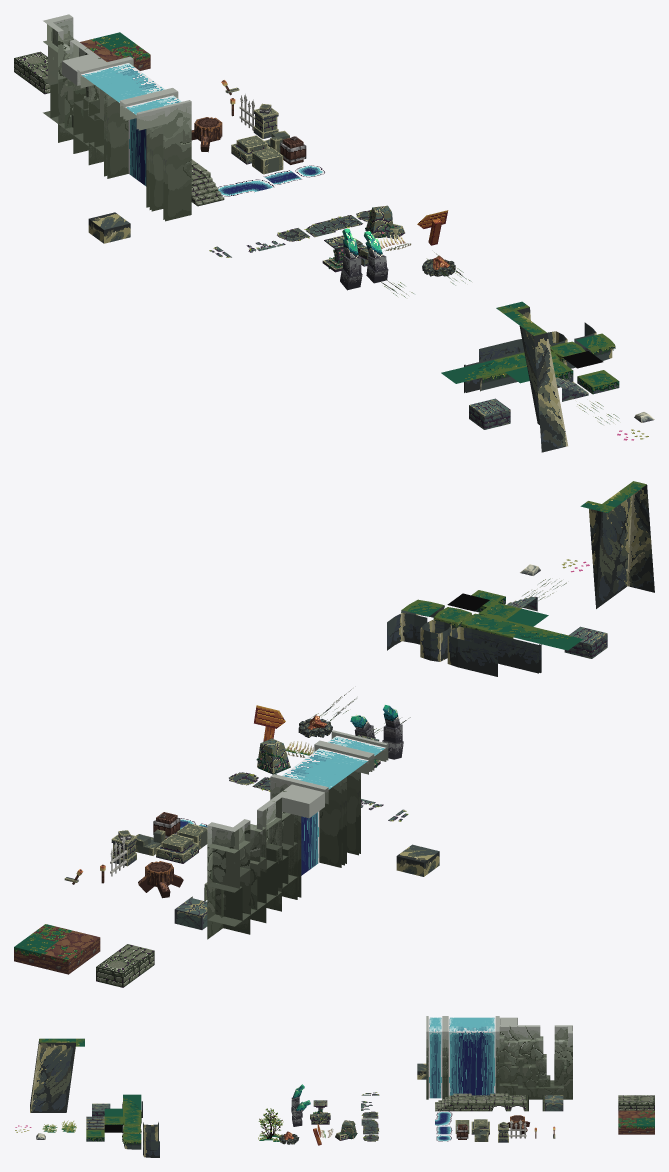
File: LIB_GridMapMeshLibrary.gltf
The picture shows the model from 3 angles, top to bottom: view 1: azimuth 30°, elevation 25°; view 2: azimuth 150°, elevation 25°; view 3: azimuth 270°, elevation 25°; orthographic projection. The views are drawn at different scales.
Visible parts, largest first — view 1: cube (×8), HillCorner, 1.2_Rock new plzdontoveride, 1.0_StonePath, 1.6.1_Crystal_FingerHigh, 1.6.1_Crystal_FingerLow, Edge, 1.0_HillEdge, Upwards Ascending Stair, 1.0_UpwardsPath, 1.0_HillWall, Rock 3 (+1 smaller); view 2: cube (×11), HillCorner, 1.0_HillWall, SideEdge_Extension, 1.0_HillEdge, End_Extension, Single_Extension, 1.2_Rock new plzdontoveride, Corner_Extension, 1.0_StonePath, 1.6.1_Crystal_FingerHigh, Edge_Extension (+1 smaller); view 3: cube (×25), 1.0_HillWall, HillCorner, 1.0_HillEdge, Upwards Ascending Stair (×2), Corner, Corner_Extension, 1.6.1_Crystal_FingerLow, 1.0_UpwardsPath, Single_Extension, 1.5.3_Stone_Brick_Wall.
Part boxes in pixels (left/top/right/bottom): cube (×8): left=62, top=54, right=283, bottom=221; HillCorner: left=527, top=327, right=567, bottom=452; 1.2_Rock new plzdontoveride: left=88, top=212, right=130, bottom=243; 1.0_StonePath: left=469, top=398, right=510, bottom=429; 1.6.1_Crystal_FingerHigh: left=340, top=228, right=362, bottom=290; 1.6.1_Crystal_FingerLow: left=364, top=231, right=388, bottom=283; Edge: left=467, top=360, right=508, bottom=390; 1.0_HillEdge: left=496, top=301, right=537, bottom=422; Upwards Ascending Stair: left=191, top=175, right=224, bottom=206; 1.0_UpwardsPath: left=577, top=370, right=619, bottom=394; 1.0_HillWall: left=511, top=316, right=539, bottom=424; Rock 3: left=366, top=205, right=392, bottom=238; cube (×11): left=14, top=730, right=360, bottom=987; HillCorner: left=612, top=481, right=654, bottom=597; 1.0_HillWall: left=596, top=487, right=638, bottom=608; SideEdge_Extension: left=470, top=632, right=511, bottom=676; 1.0_HillEdge: left=580, top=498, right=622, bottom=608; End_Extension: left=447, top=626, right=484, bottom=670; Single_Extension: left=420, top=620, right=451, bottom=661; 1.2_Rock new plzdontoveride: left=396, top=844, right=439, bottom=876; Corner_Extension: left=387, top=612, right=427, bottom=650; 1.0_StonePath: left=564, top=626, right=607, bottom=658; 1.6.1_Crystal_FingerHigh: left=382, top=704, right=403, bottom=759; Edge_Extension: left=511, top=638, right=538, bottom=673; cube (×25): left=426, top=1024, right=654, bottom=1134; 1.0_HillWall: left=48, top=1038, right=66, bottom=1112; HillCorner: left=30, top=1038, right=48, bottom=1112; 1.0_HillEdge: left=66, top=1038, right=84, bottom=1111; Upwards Ascending Stair (×2): left=86, top=1095, right=453, bottom=1129; Corner: left=122, top=1134, right=141, bottom=1149; Corner_Extension: left=143, top=1138, right=159, bottom=1157; 1.6.1_Crystal_FingerLow: left=292, top=1100, right=310, bottom=1126; 1.0_UpwardsPath: left=86, top=1129, right=104, bottom=1141; Single_Extension: left=143, top=1126, right=158, bottom=1141; 1.5.3_Stone_Brick_Wall: left=310, top=1113, right=330, bottom=1124.
Bounding box in the file's own units: 20.25 × 9.19 × 69.94.
7 materials, 7 textured.
